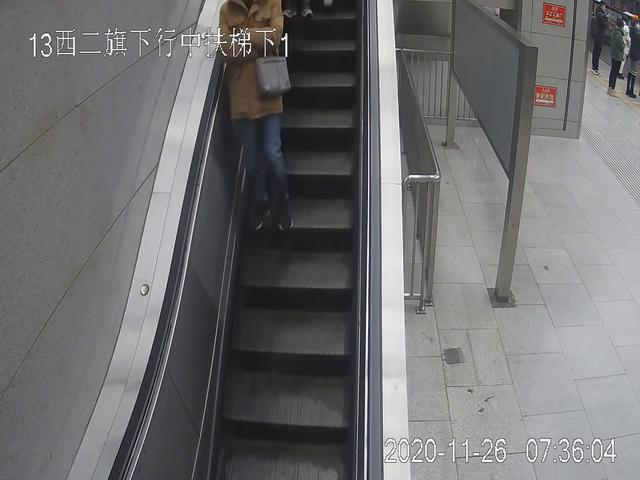person: (220, 1, 297, 232), (591, 1, 605, 75), (608, 19, 621, 95)
